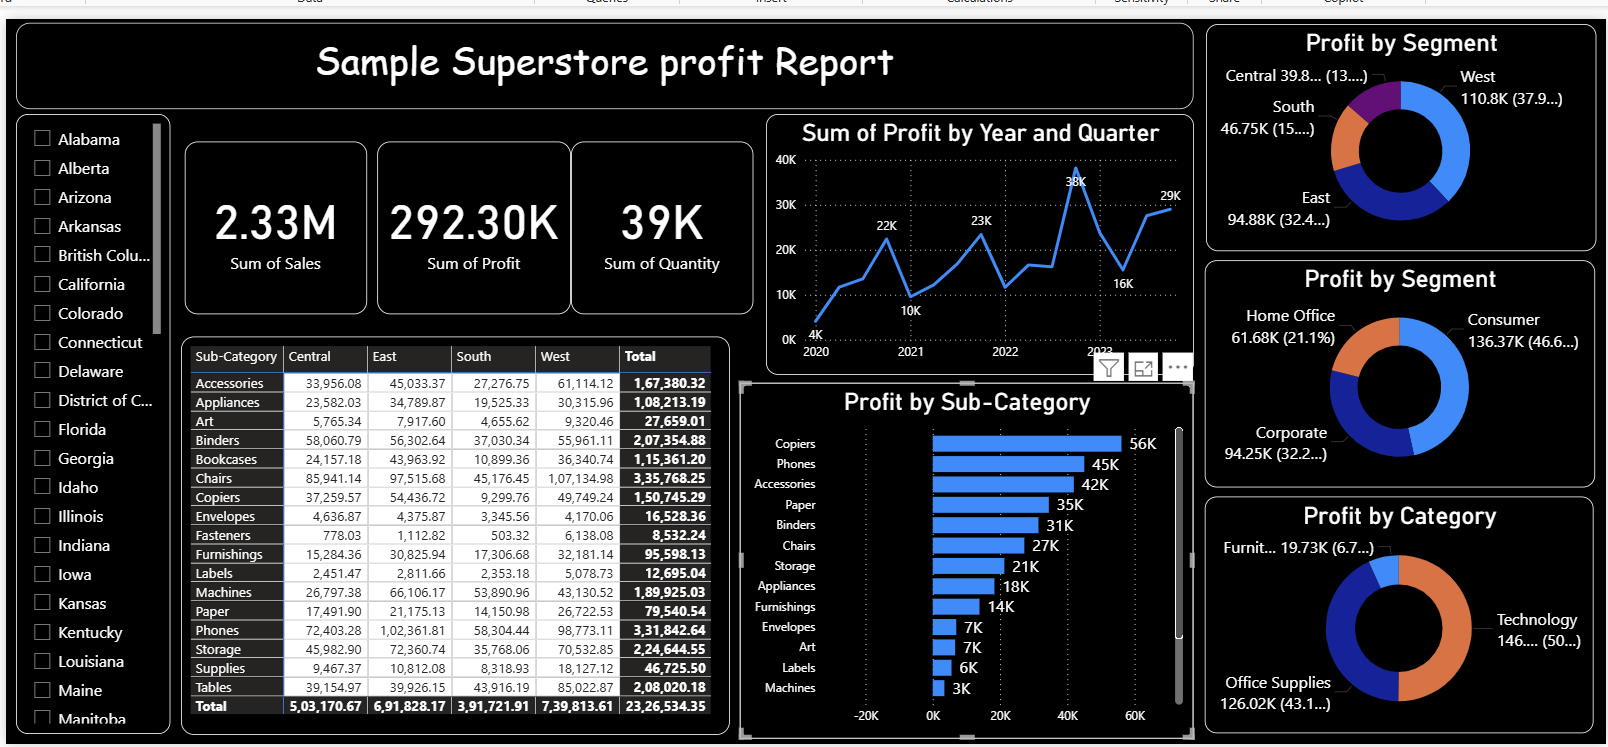

The page's visual inventory and layout, read from the dashboard file:
{"tool":"powerbi","page":{"name":"Sample Superstore","canvas":[1600,725],"ordinal":0},"visuals":[{"type":"textbox","box":[10,3.8,1177.5,86.2],"z":0},{"type":"donutChart","title":"Profit by Category","fields":{"Category":["Orders.Category"],"Y":["Sum(Orders.Profit)"]},"box":[1198.8,477.8,388.9,237],"z":1000},{"type":"donutChart","title":"Profit by Segment","fields":{"Y":["Sum(Orders.Profit)"],"Category":["Orders.Segment"]},"box":[1198.8,241.2,390,227.5],"z":2000},{"type":"donutChart","title":"Profit by Segment","fields":{"Y":["Sum(Orders.Profit)"],"Category":["Orders.Region"]},"box":[1200,5,390,227.5],"z":3000},{"type":"clusteredBarChart","title":"Profit by Sub-Category","fields":{"Category":["Orders.Sub-Category"],"Y":["Sum(Orders.Profit)"]},"box":[733.8,363.8,453.8,356.2],"z":4000},{"type":"lineChart","fields":{"Category":["Orders.Order Date.Variation.Date Hierarchy.Year","Orders.Order Date.Variation.Date Hierarchy.Quarter","Orders.Order Date.Variation.Date Hierarchy.Month","Orders.Order Date.Variation.Date Hierarchy.Day"],"Y":["Sum(Orders.Profit)"]},"box":[760.5,95.6,427.8,261.1],"z":5000},{"type":"slicer","fields":{"Values":["Orders.State/Province"]},"box":[9.9,95.1,154.3,619.8],"z":6000},{"type":"pivotTable","fields":{"Rows":["Orders.Sub-Category"],"Columns":["Orders.Region"],"Values":["Sum(Orders.Sales)"]},"box":[175,317.5,548.8,398.8],"z":7000},{"type":"card","fields":{"Values":["Sum(Orders.Sales)"]},"box":[178.8,122.7,182.5,172.5],"z":8000},{"type":"card","fields":{"Values":["Sum(Orders.Profit)"]},"box":[371.2,122.7,193.8,172.5],"z":9000},{"type":"card","fields":{"Values":["Sum(Orders.Quantity)"]},"box":[565,122.7,182.5,172.5],"z":10000}]}

Visuals, with their boxes on the page's 1600x725 design canvas (x1, y1, x2, y2). These are canvas units, not pixel positions in the 1608x747 screenshot, which may show the page scaled, cropped or inside an application window:
textbox: (10, 4, 1188, 90)
"Profit by Category" donutChart: (1199, 478, 1588, 715)
"Profit by Segment" donutChart: (1199, 241, 1589, 469)
"Profit by Segment" donutChart: (1200, 5, 1590, 232)
"Profit by Sub-Category" clusteredBarChart: (734, 364, 1188, 720)
lineChart - Orders.Order Date.Variation.Date Hierarchy.Year x Orders.Order Date.Variation.Date Hierarchy.Quarter: (760, 96, 1188, 357)
slicer - Orders.State/Province: (10, 95, 164, 715)
pivotTable - Orders.Sub-Category x Orders.Region: (175, 318, 724, 716)
card - Sum(Orders.Sales): (179, 123, 361, 295)
card - Sum(Orders.Profit): (371, 123, 565, 295)
card - Sum(Orders.Quantity): (565, 123, 748, 295)
